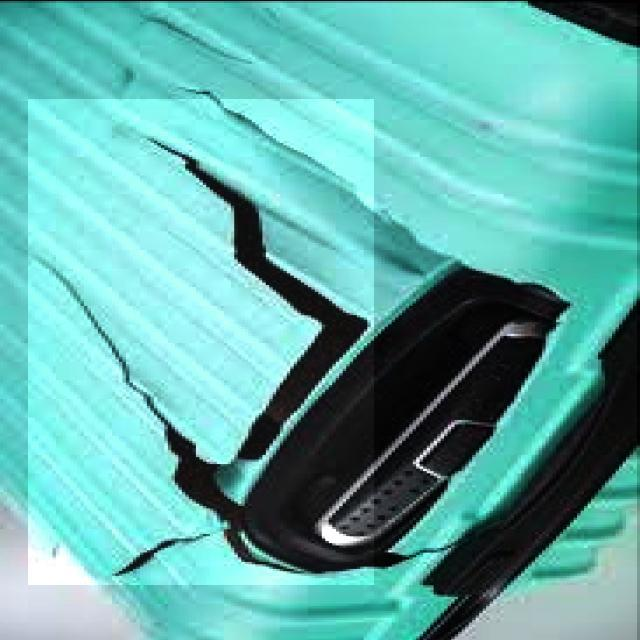Damage-bag: (32, 254, 300, 571), (150, 131, 369, 460), (148, 12, 261, 68), (366, 531, 470, 584), (182, 88, 274, 139), (115, 533, 212, 576), (495, 278, 569, 312), (280, 141, 339, 178), (380, 219, 420, 254)
